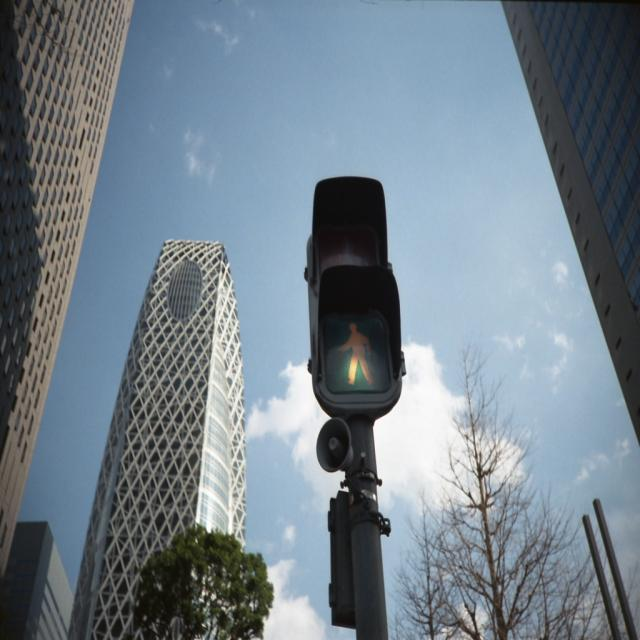traffic light: (307, 177, 402, 409)
